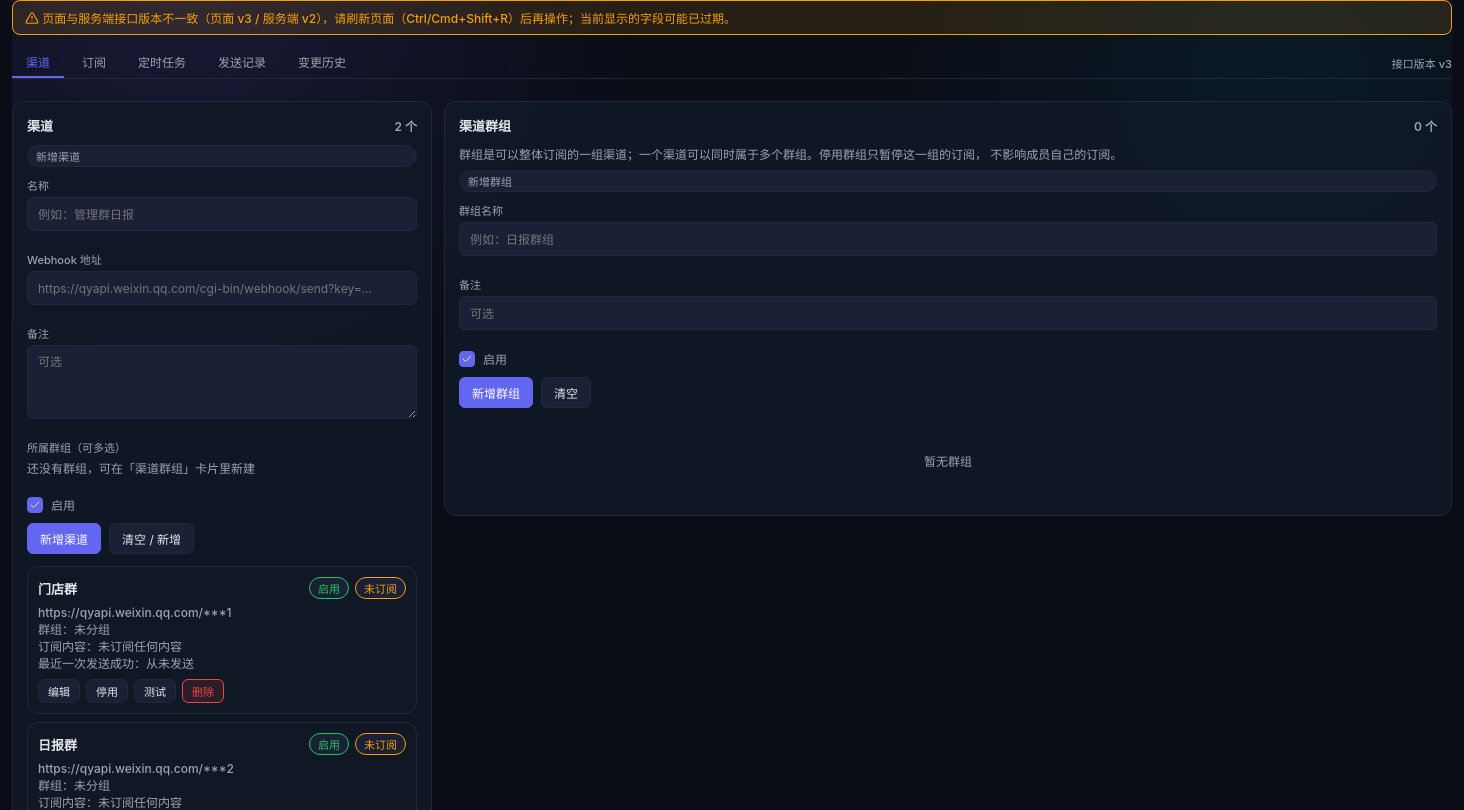
Test case: 发送记录 tab 的筛选 › 内容类型下拉来自 /meta 的注册表，不写死
What coordinates should you click on to do the following:
click the button "发送记录"
I would click on:
 (242, 62)
Its box is [204,47,280,78].
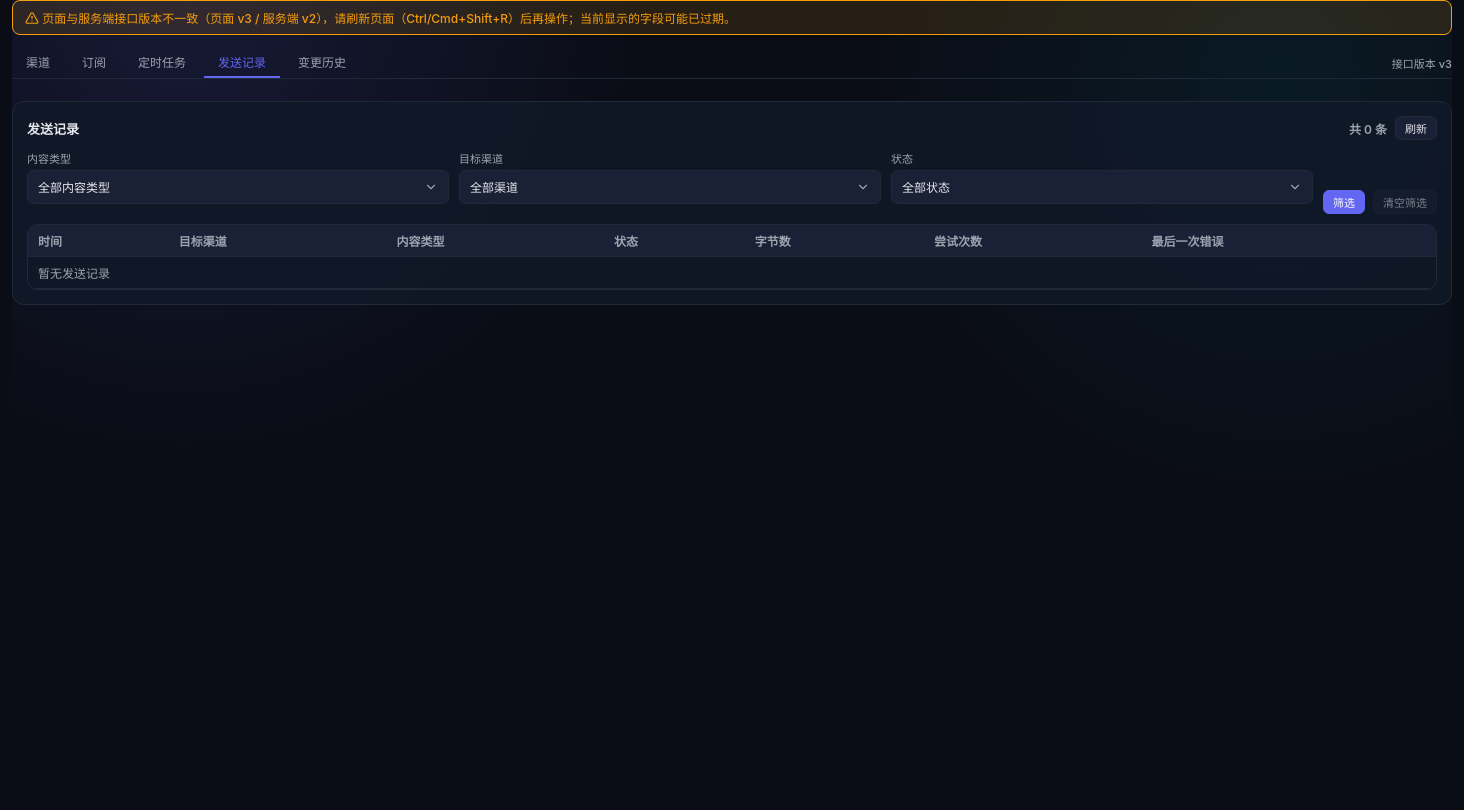
Now the dropdown named "按内容类型筛选" is shown, box [27,170,449,204]
